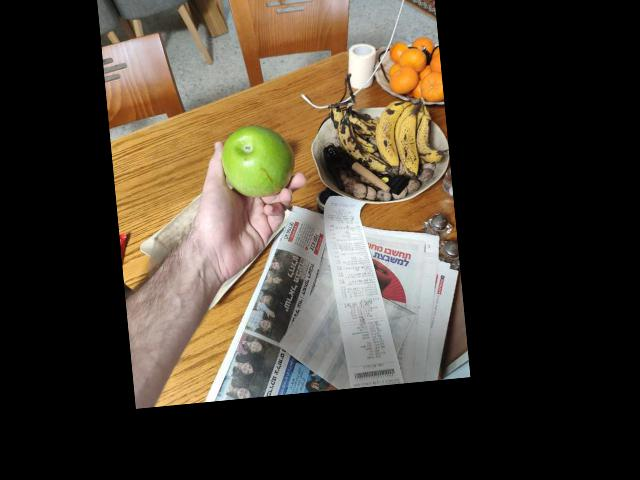apple: (215, 121, 295, 198)
